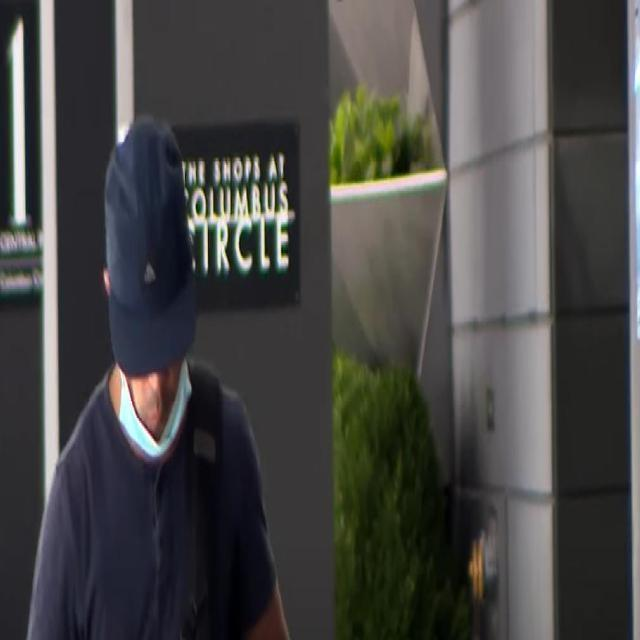hairnet: (119, 374, 194, 450)
